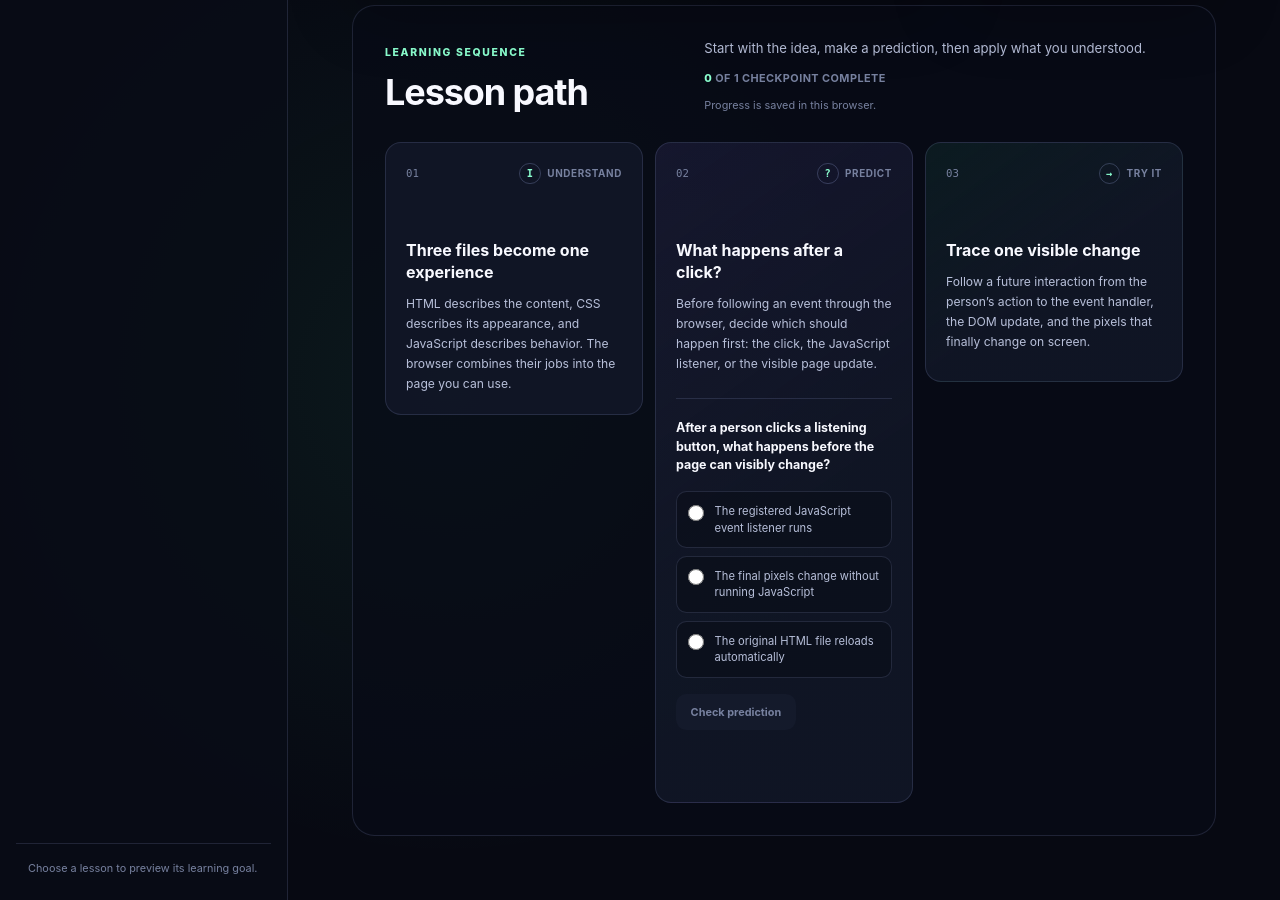
Test case: App › updates checkpoint progress after a correct prediction
(page scrolled)
Expected: the message reads "0 of 1 checkpoint complete", [704,71,886,85]
Click the radio button labelled "The registered JavaScript event listener runs" at point(696, 513), box [688,505,704,521]
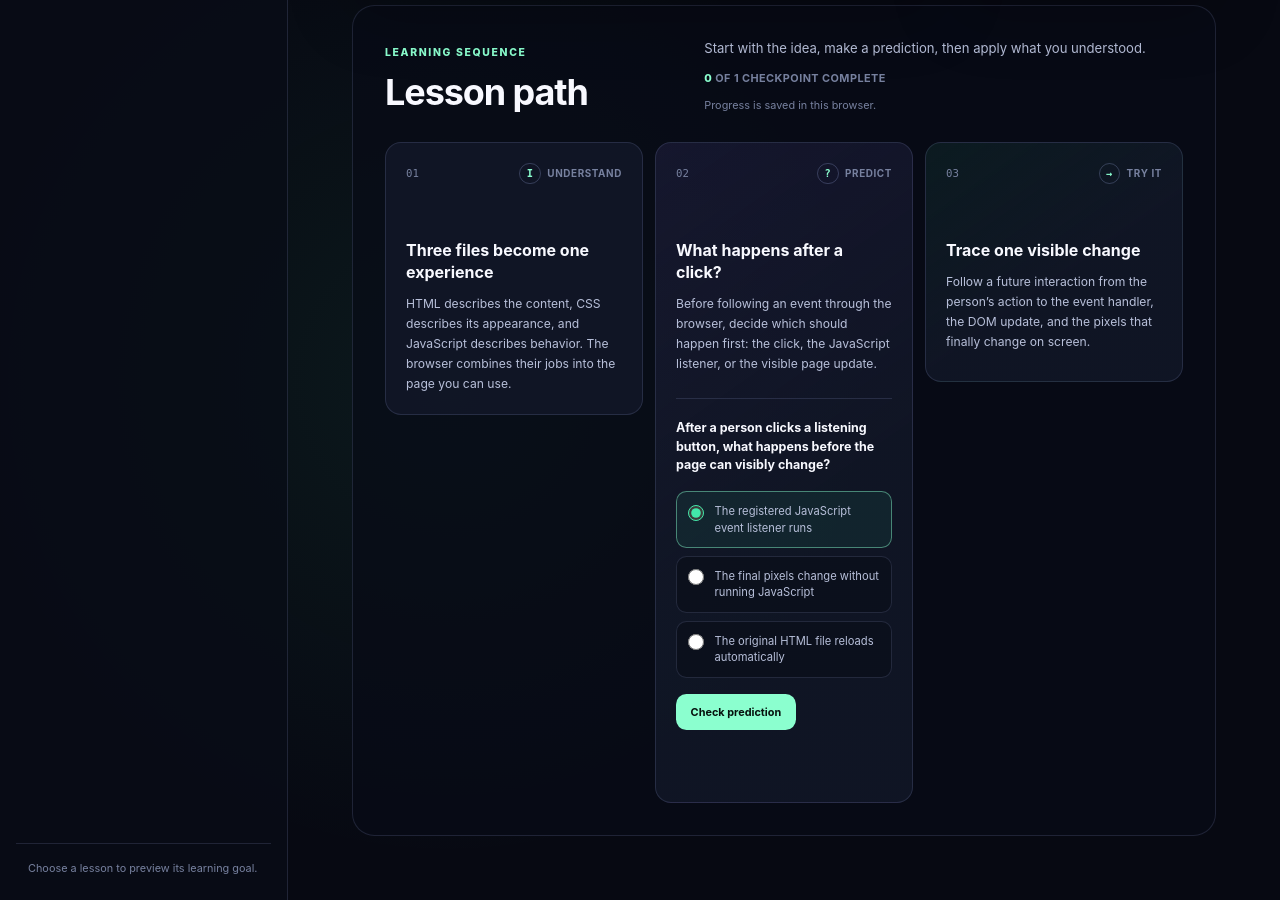
Click the button "Check prediction" at point(736, 712), box [676,694,796,730]
(page scrolled)
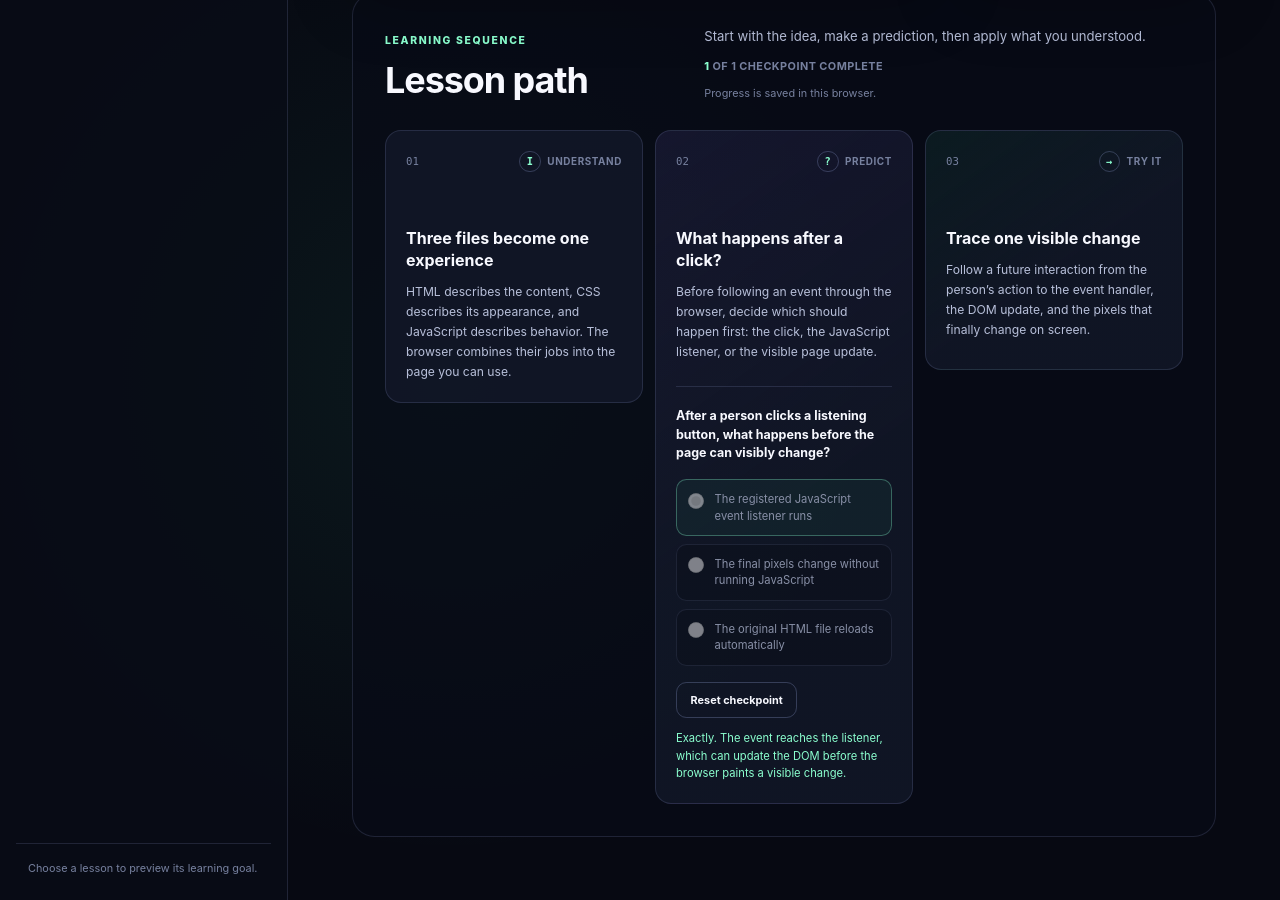
Result: the message reads "1 of 1 checkpoint complete" at [704,59,883,73]
